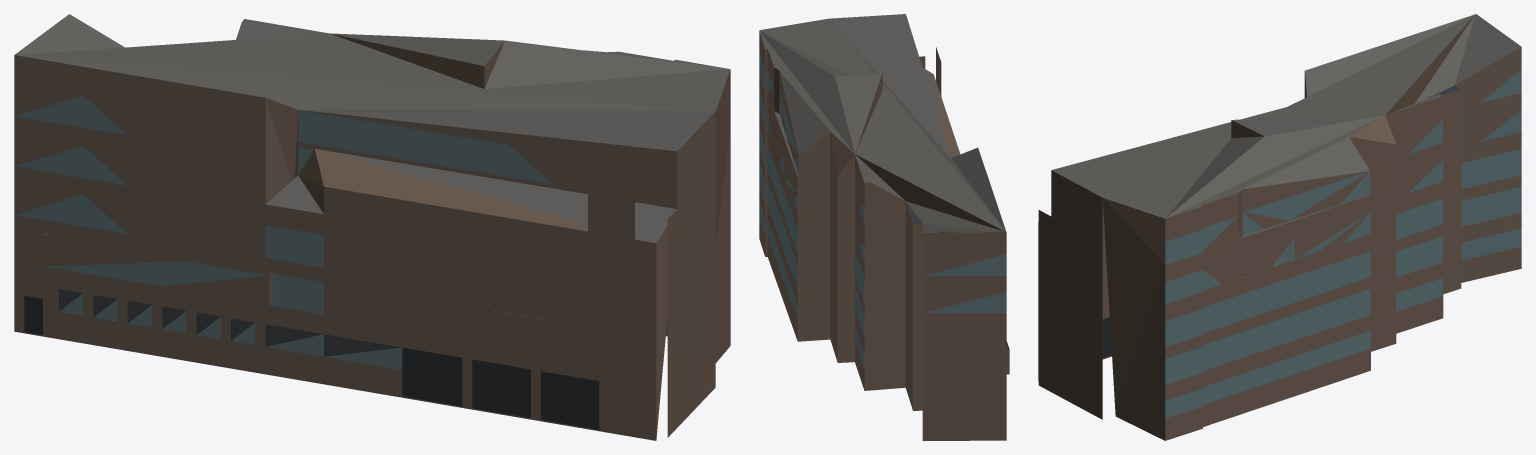
File: politie-lijnbaansgracht.lod2.glb
The picture shows the model from 3 angles, left to right: view 1: azimuth 30°, elevation 25°; view 2: azimuth 150°, elevation 25°; view 3: azimuth 270°, elevation 25°; orthographic projection. The views are drawn at different scales.
Visible parts, largest first — view 1: lod2; view 2: lod2; view 3: lod2.
Boxes of the visible parts, <box> form: lod2: <box>14,14,730,440</box>; lod2: <box>759,14,1009,440</box>; lod2: <box>1038,14,1521,440</box>.
Bounding box in the file's own units: 39.24 × 21.5 × 39.11.
